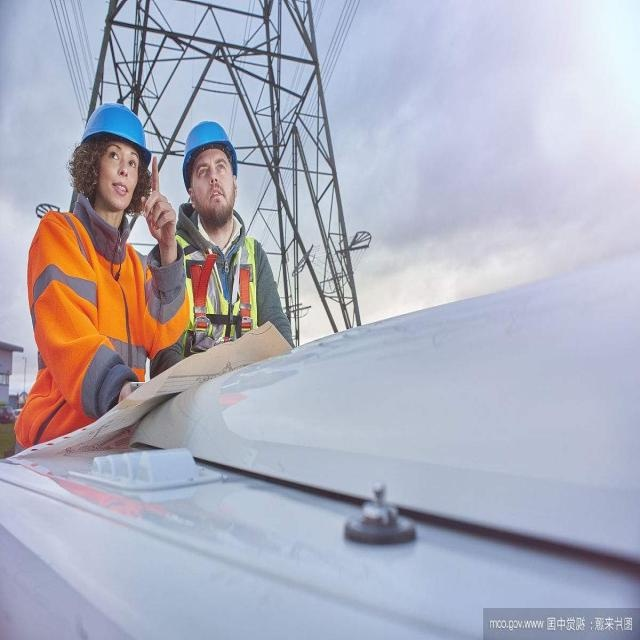Con_Casco: (76, 101, 152, 212), (183, 121, 241, 222)
